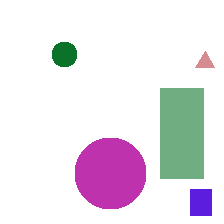circle: (75, 138, 145, 208), (52, 42, 76, 66)
rectangle: (160, 88, 203, 178), (190, 189, 211, 215)
triangle: (195, 51, 214, 67)
